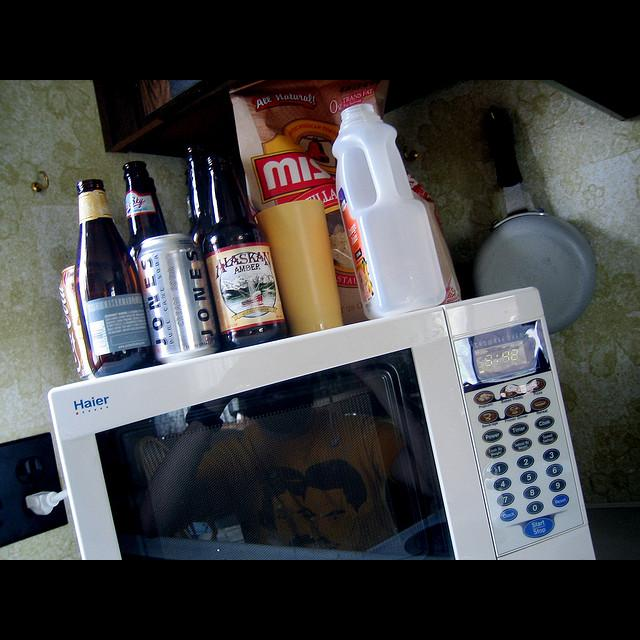Microwave: (46, 282, 596, 552)
